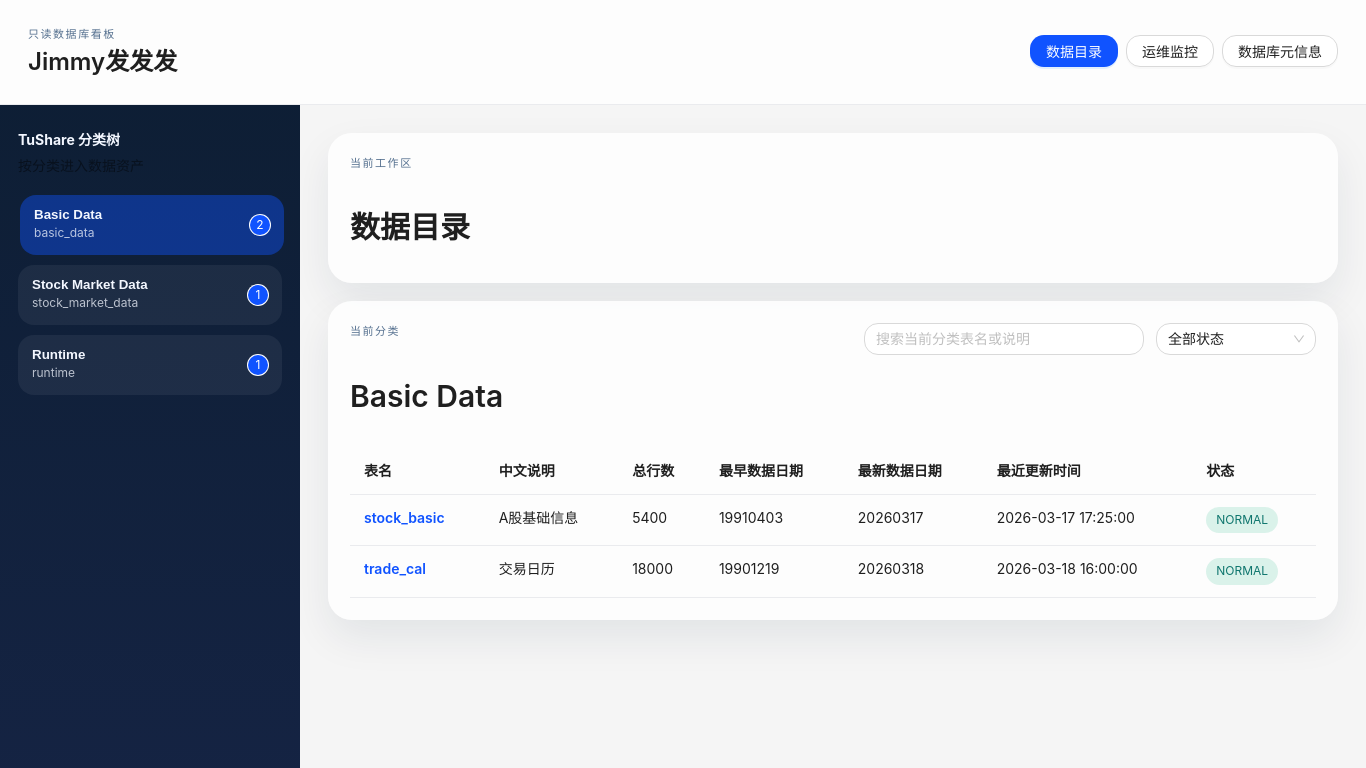
Test case: data_explorer app shell › loads the current category table list, filters within the category, and opens table detail
Check: the heading "数据目录" is shown, box 350,209 -> 470,245
Check: the button "Basic Data basic_data 2" is shown, box 20,195 -> 284,255
Type "基础" into the field with placeholder "搜索当前分类表名或说明" at {"x": 996, "y": 339}, box 876,328 -> 1116,350
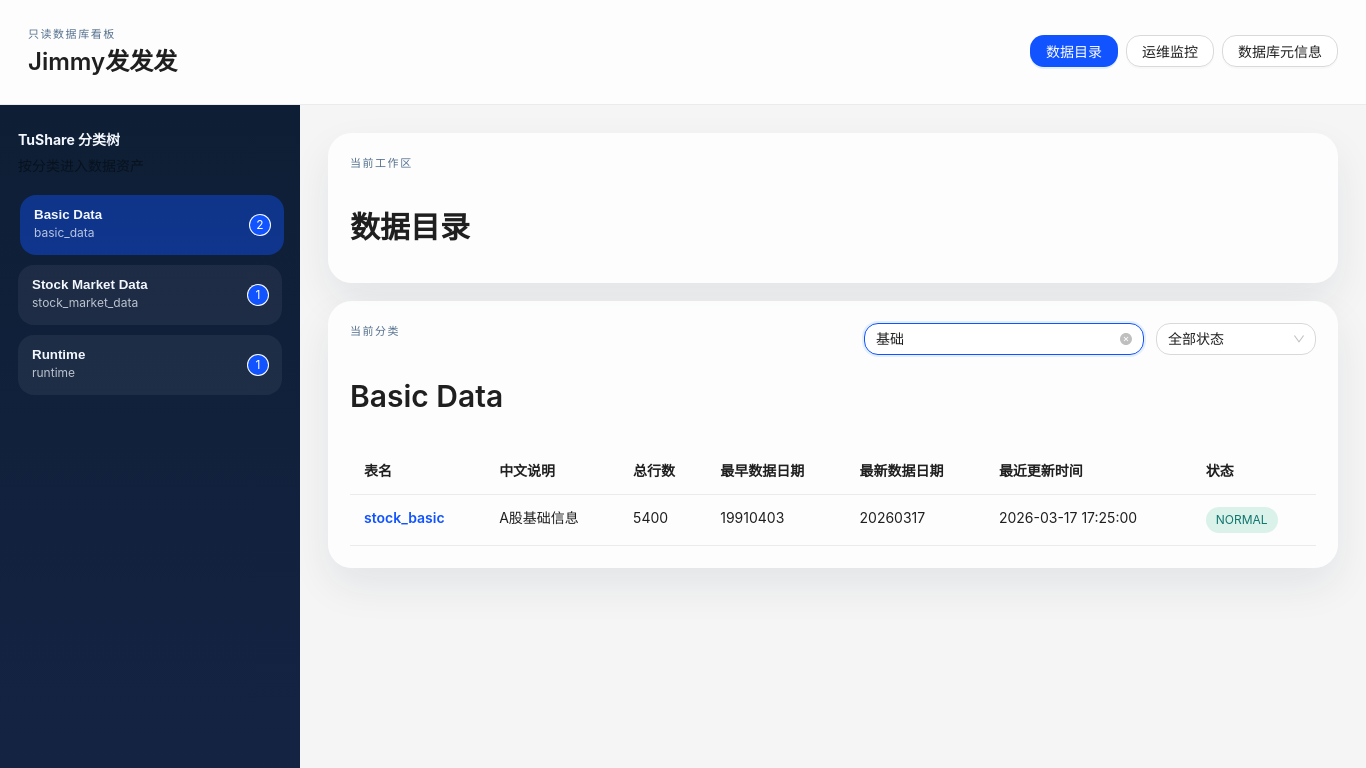
Check: the link with aria-label "查看 stock_basic API 文档" is shown, box 364,509 -> 445,526
Click the cell "A股基础信息" at {"x": 552, "y": 520}, box 485,494 -> 619,546
(page scrolled)
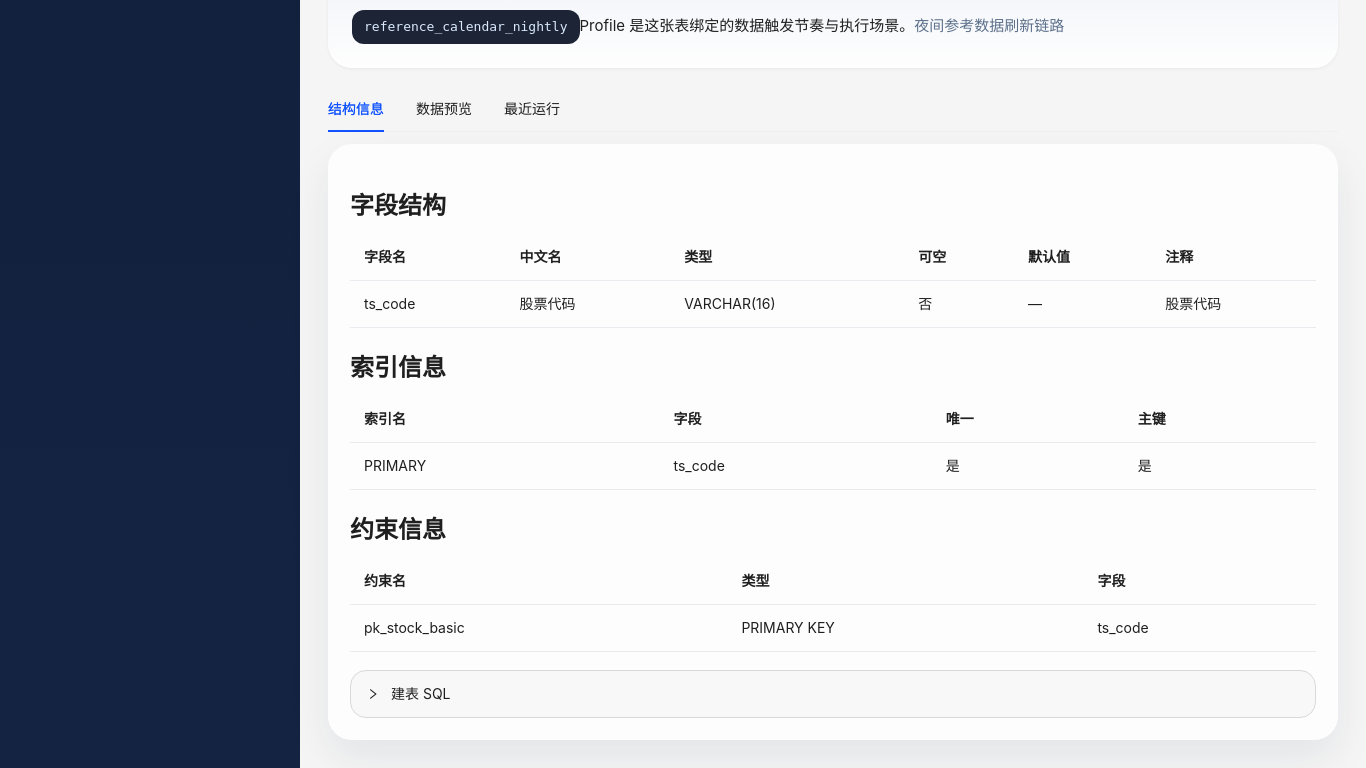
Check: the text "Profile 是这张表绑定的数据触发节奏与执行场景。" is shown, box 580,16 -> 914,35
Check: the text "夜间参考数据刷新链路" is shown, box 914,16 -> 1064,35
Check: the heading "字段结构" is shown, box 350,191 -> 446,220
